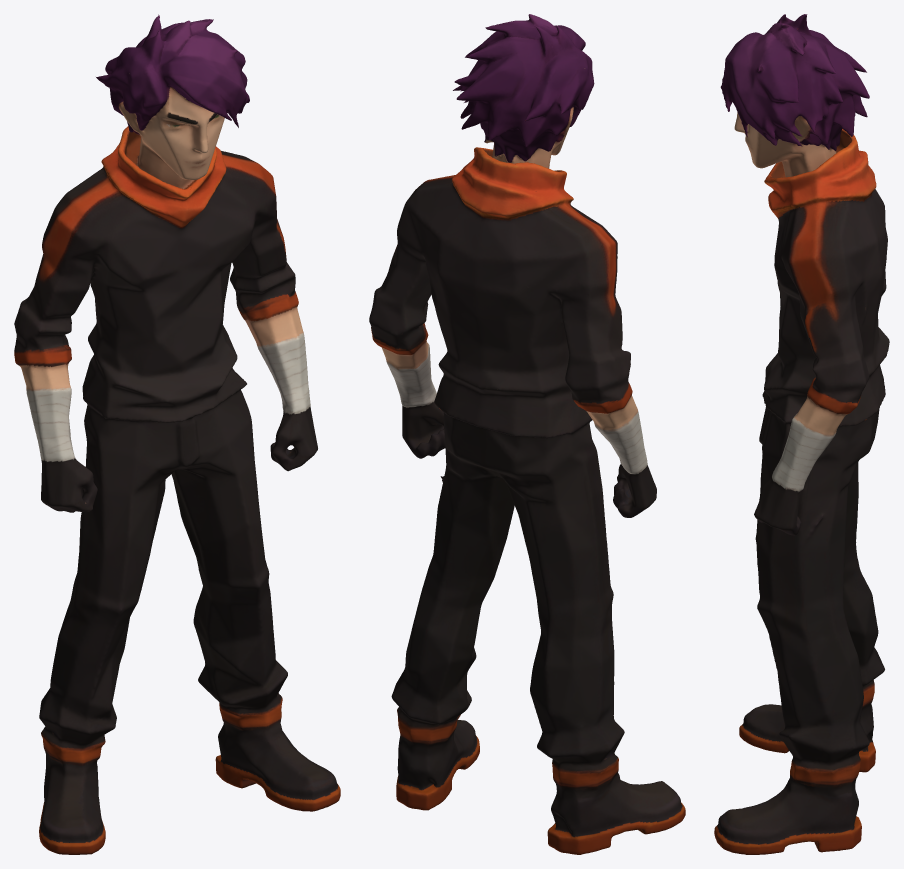
File: comfyui-00121.glb
3 renders of one model, left to right at view 1: azimuth 30°, elevation 25°; view 2: azimuth 150°, elevation 25°; view 3: azimuth 270°, elevation 25°, orthographic. The views are drawn at different scales.
Bounding box in the file's own units: 0.3534 × 0.971 × 0.1975.
Materials: 1 (1 with a texture image).
